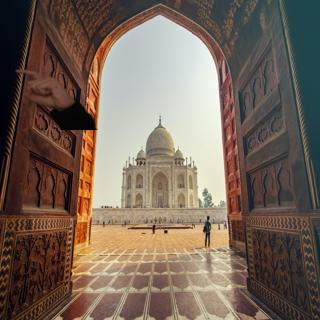WHY: (13, 64, 73, 108)
